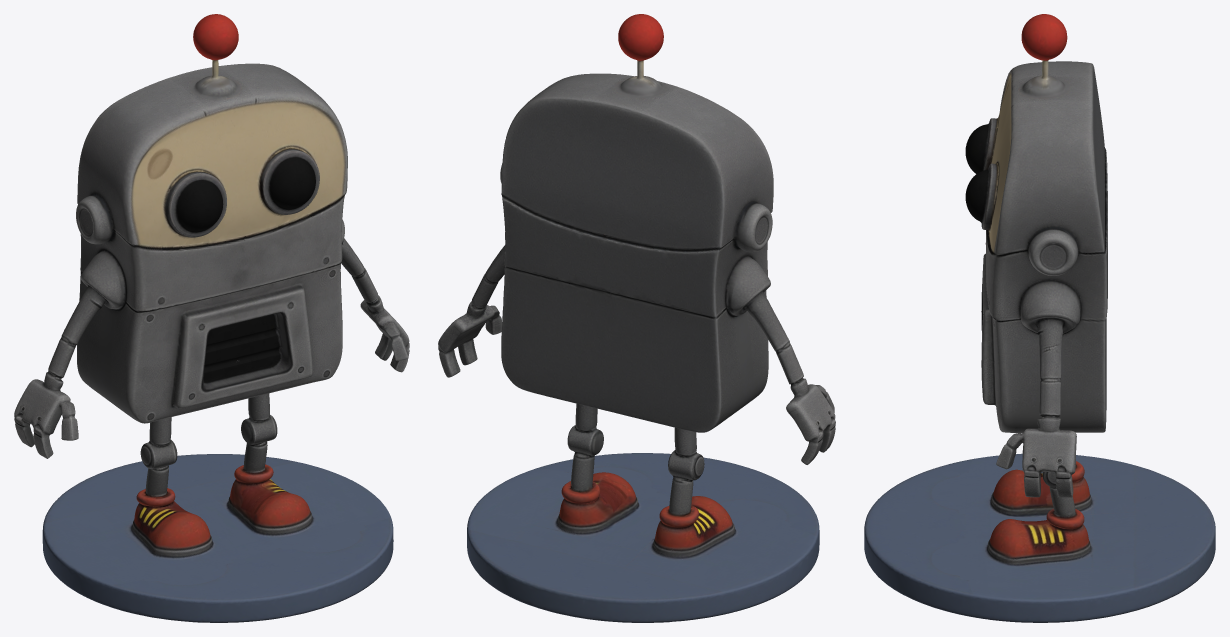
The model's file is rusty-buttonbot.glb.
3 renders of one model, left to right at view 1: azimuth 30°, elevation 25°; view 2: azimuth 150°, elevation 25°; view 3: azimuth 270°, elevation 25°, orthographic.
Size of the model in its own units: 1.41 by 1.9 by 1.13.
Materials: 1 (1 with a texture image).
